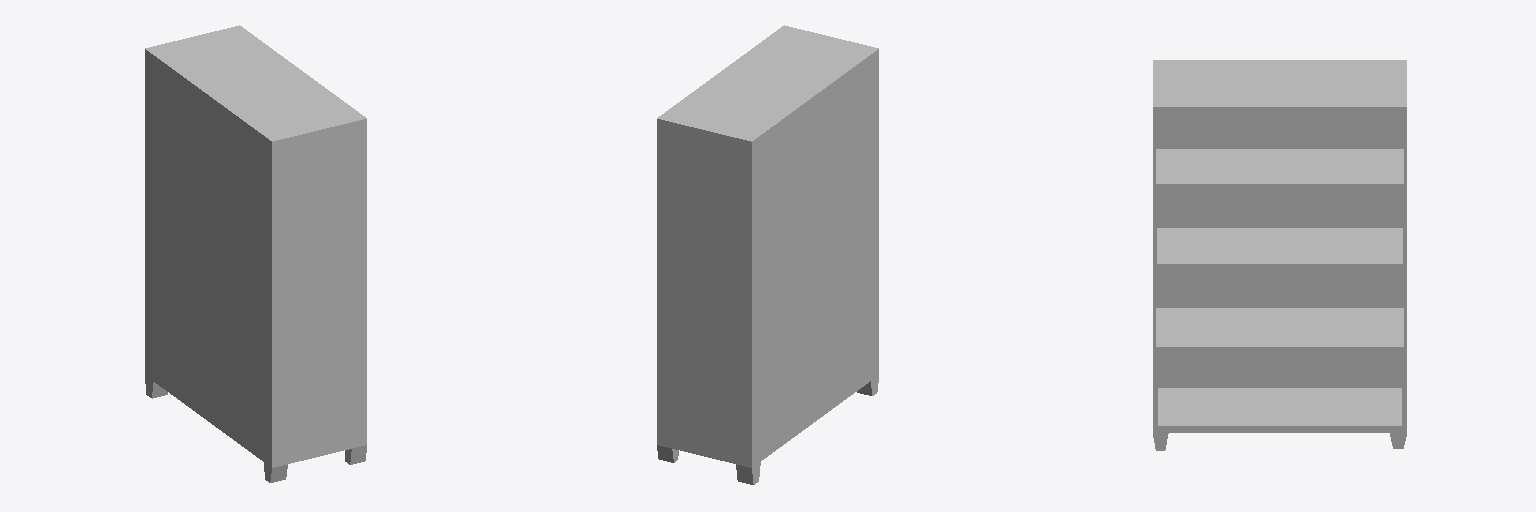
The model's file is bookshelf1.obj.
3 renders of one model, left to right at view 1: azimuth 30°, elevation 25°; view 2: azimuth 150°, elevation 25°; view 3: azimuth 270°, elevation 25°, orthographic.
Parts seen in each view (by area): view 1: Cube; view 2: Cube; view 3: Cube.
Part boxes in pixels (left/top/right/bottom): Cube: left=145, top=25, right=366, bottom=482; Cube: left=657, top=25, right=878, bottom=484; Cube: left=1153, top=60, right=1406, bottom=450.
Bounding box in the file's own units: 2 × 6.92 × 4.63.